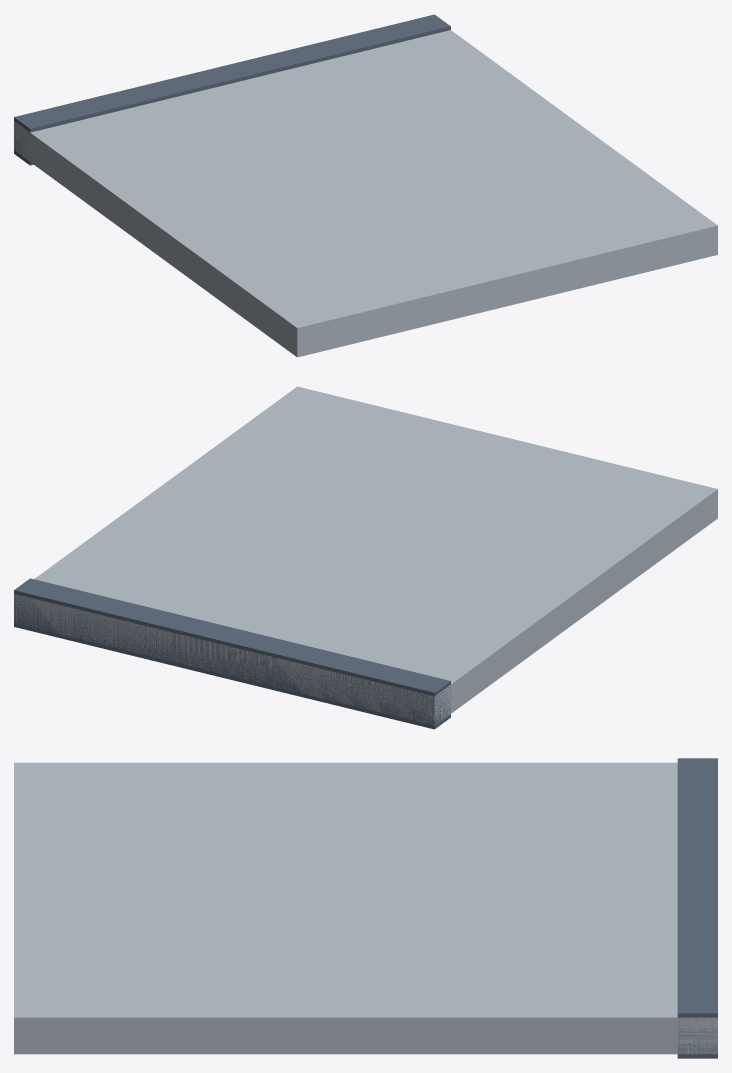
The model's file is divider_panel.glb.
3 renders of one model, top to bottom at view 1: azimuth 30°, elevation 25°; view 2: azimuth 150°, elevation 25°; view 3: azimuth 270°, elevation 25°, orthographic. The views are drawn at different scales.
Visible parts, largest first — view 1: panel, base; view 2: panel, base; view 3: panel, base.
Boxes of the visible parts, bbox=[...] form: panel: bbox=[14, 30, 717, 357]; base: bbox=[14, 14, 450, 165]; panel: bbox=[14, 386, 717, 725]; base: bbox=[14, 578, 450, 729]; panel: bbox=[14, 762, 717, 1054]; base: bbox=[677, 758, 717, 1058].
Size of the model in its own units: 1.2 by 0.1 by 1.4.
